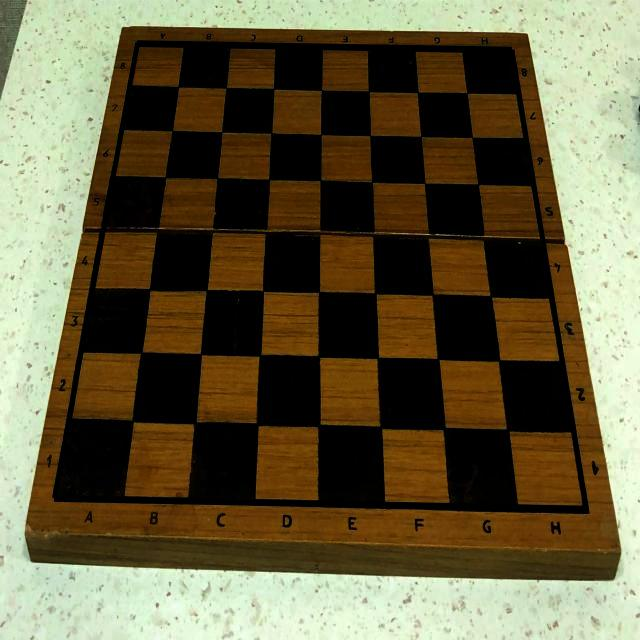chess-table-corners: (566, 488, 600, 532), (44, 476, 76, 517), (126, 30, 153, 63), (492, 38, 520, 68)
